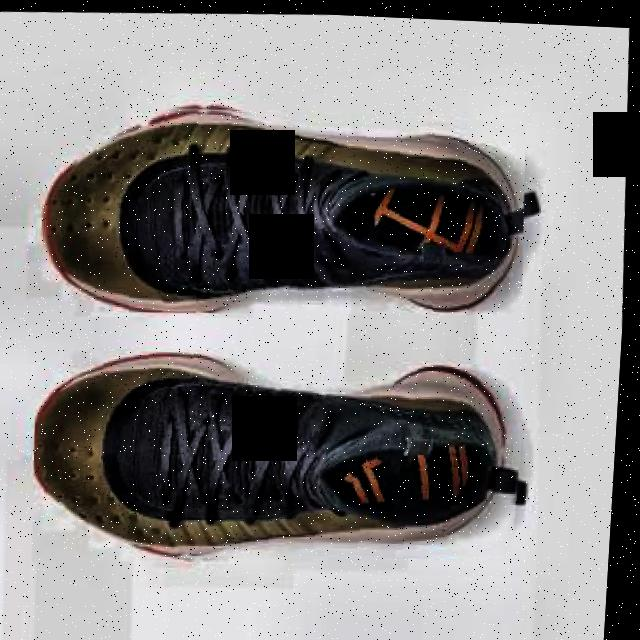shoe: (31, 328, 541, 578), (37, 85, 534, 327)
